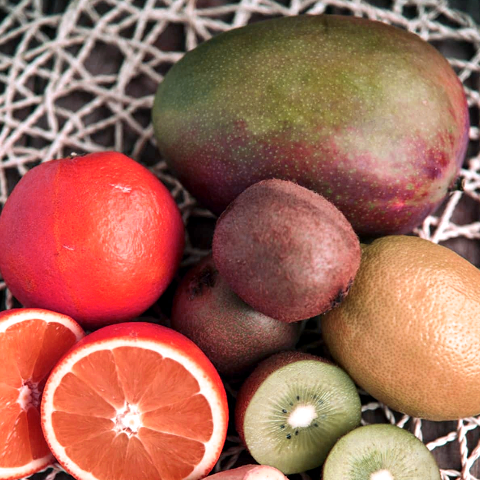kiwi: (117, 10, 480, 235), (213, 173, 359, 324)
orange: (0, 145, 190, 322)
